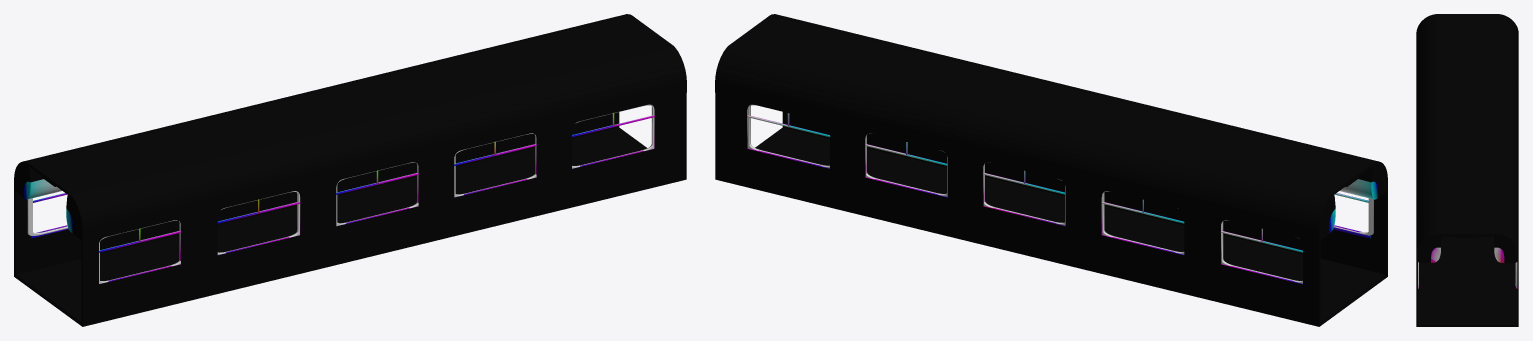
File: VagónVentilación.fbx
The picture shows the model from 3 angles, left to right: view 1: azimuth 30°, elevation 25°; view 2: azimuth 150°, elevation 25°; view 3: azimuth 270°, elevation 25°; orthographic projection. The views are drawn at different scales.
Parts seen in each view (by area): view 1: VagonVentanasLau005; view 2: VagonVentanasLau005; view 3: VagonVentanasLau005.
Boxes of the visible parts, x1,y1,x2,y2 form: VagonVentanasLau005: (14,14,686,326); VagonVentanasLau005: (715,14,1387,326); VagonVentanasLau005: (1416,14,1518,326).
Size of the model in its own units: 2038 by 400 by 401.
